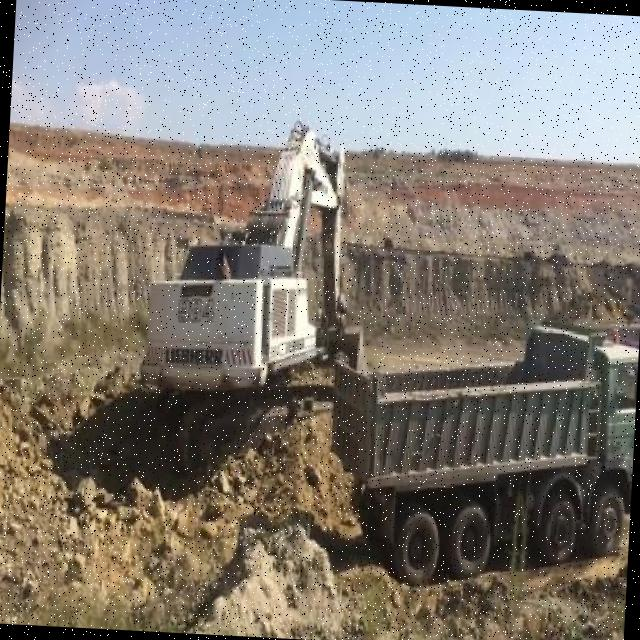Dump Truck: (320, 300, 640, 595)
Excavator: (127, 108, 361, 480)
